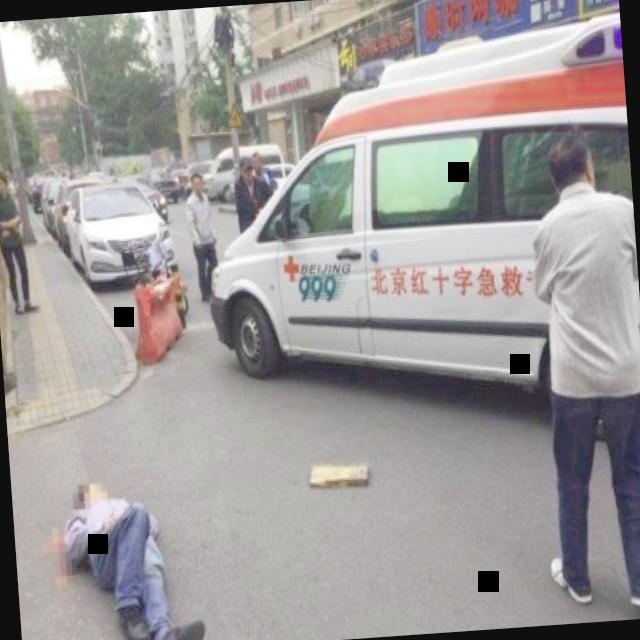Fall-Detected: (42, 458, 220, 640)
